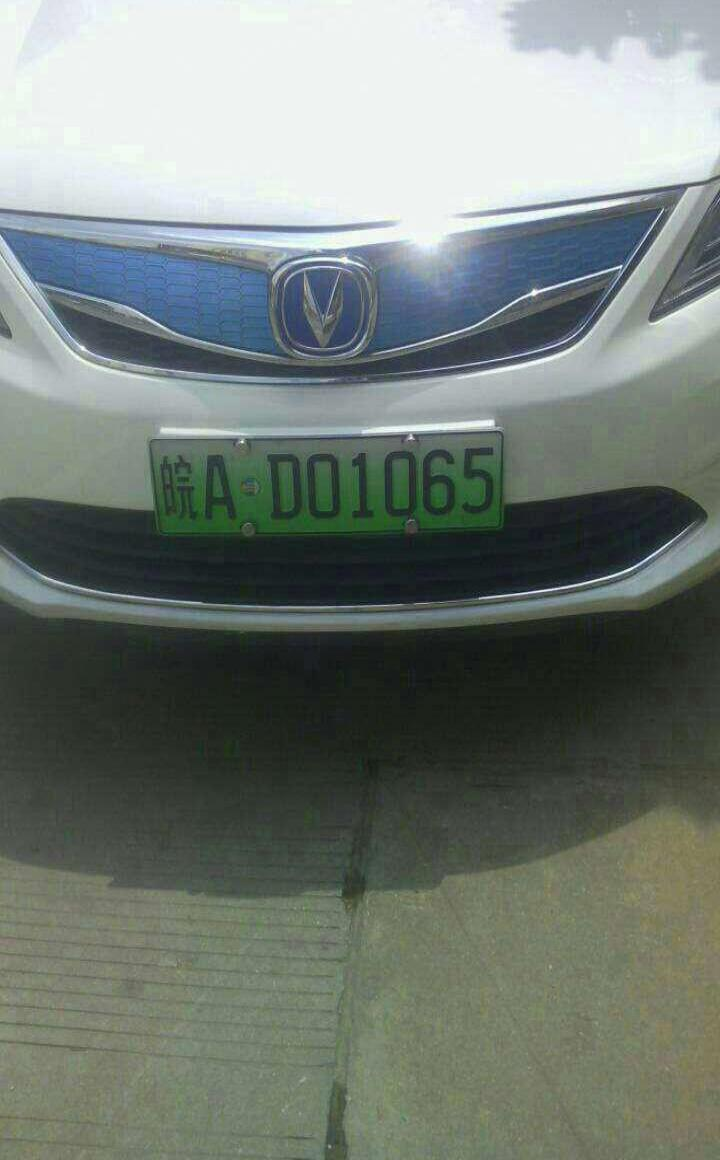car_id: (148, 431, 508, 538)
